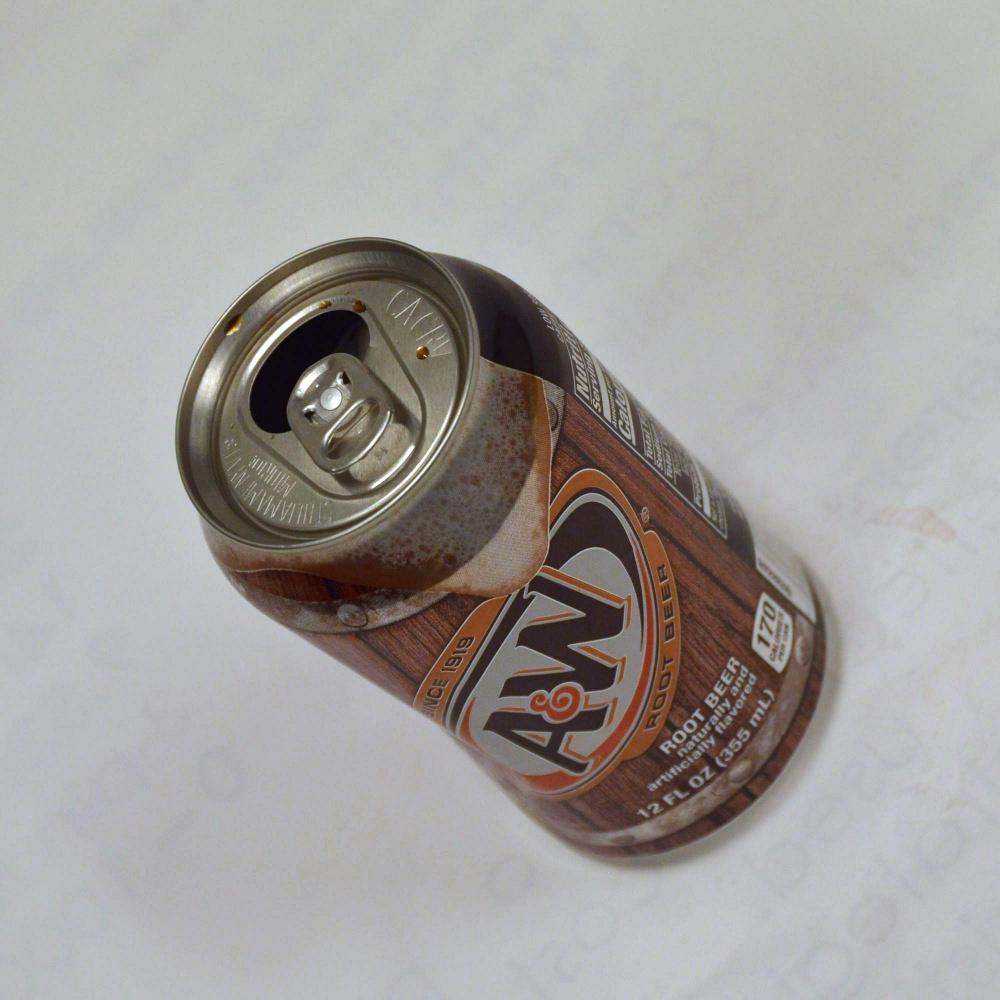Metal: (95, 243, 823, 878)
